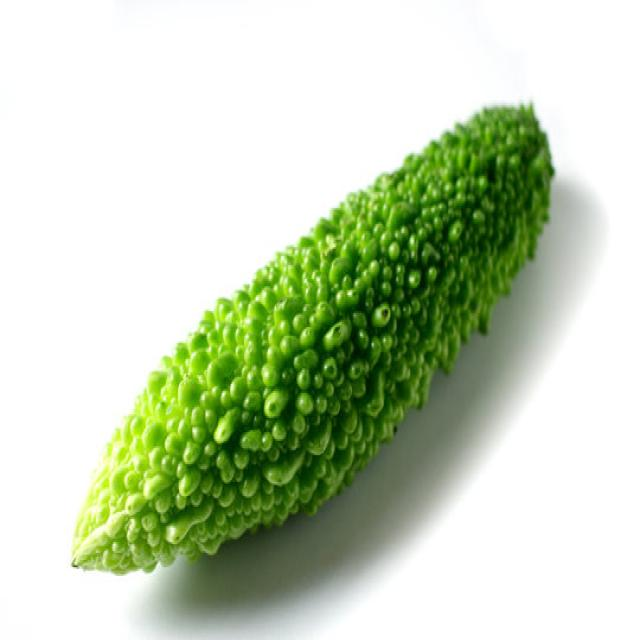Bitter_Gourd: (70, 98, 555, 576)
